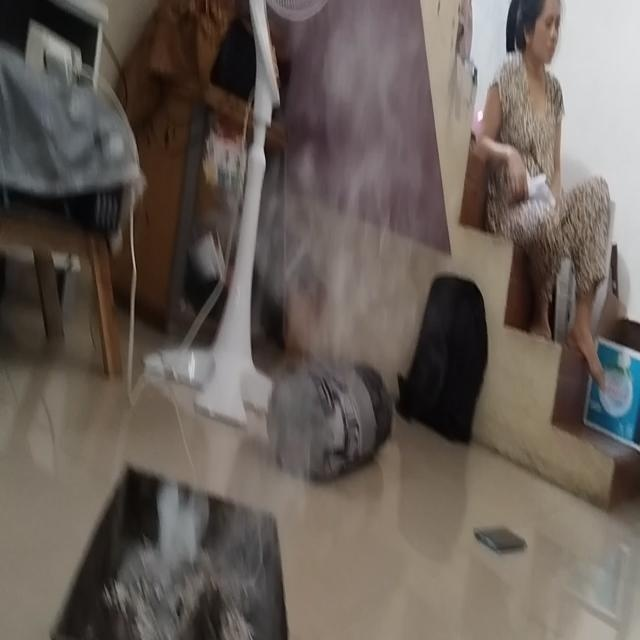smoke: (117, 454, 252, 594)
